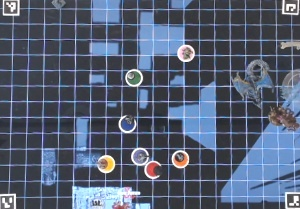blue: (114, 113, 141, 135)
green: (122, 68, 144, 88)
orange: (170, 149, 192, 170)
pink: (176, 42, 196, 64)
red: (144, 159, 164, 179)
violet: (129, 145, 149, 166)
yellow: (96, 151, 117, 175)
